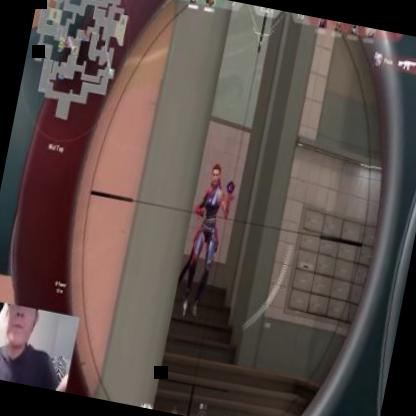enemy: (172, 160, 238, 324)
enemy_head: (209, 164, 222, 188)
